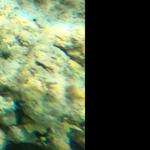dead: (1, 1, 84, 147)
